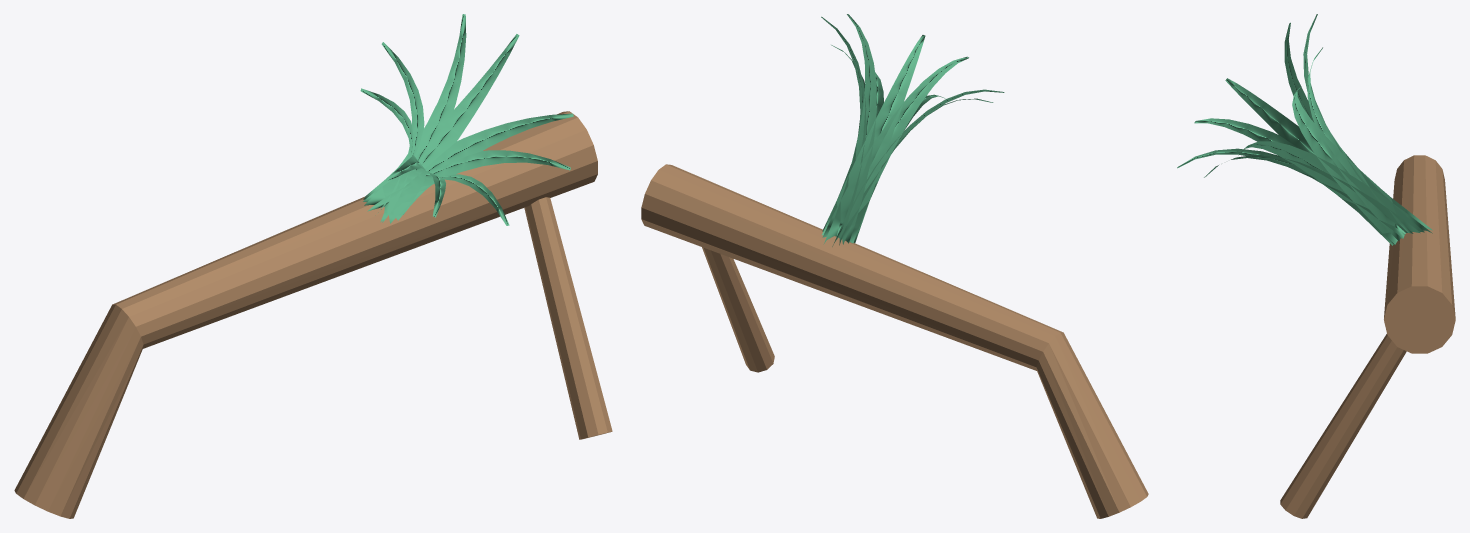
File: fallen_tree_shelter_tropical_island_and_palm_trees_6857.glb
3 renders of one model, left to right at view 1: azimuth 30°, elevation 25°; view 2: azimuth 150°, elevation 25°; view 3: azimuth 270°, elevation 25°, orthographic. The views are drawn at different scales.
Visible parts, largest first — view 1: fallen-tree-shelter; view 2: fallen-tree-shelter; view 3: fallen-tree-shelter.
Boxes of the visible parts, x1=… form: fallen-tree-shelter: x1=14, y1=14, x2=612, y2=518; fallen-tree-shelter: x1=641, y1=14, x2=1148, y2=518; fallen-tree-shelter: x1=1177, y1=14, x2=1455, y2=518.
Size of the model in its own units: 3.37 by 2.59 by 1.55.
